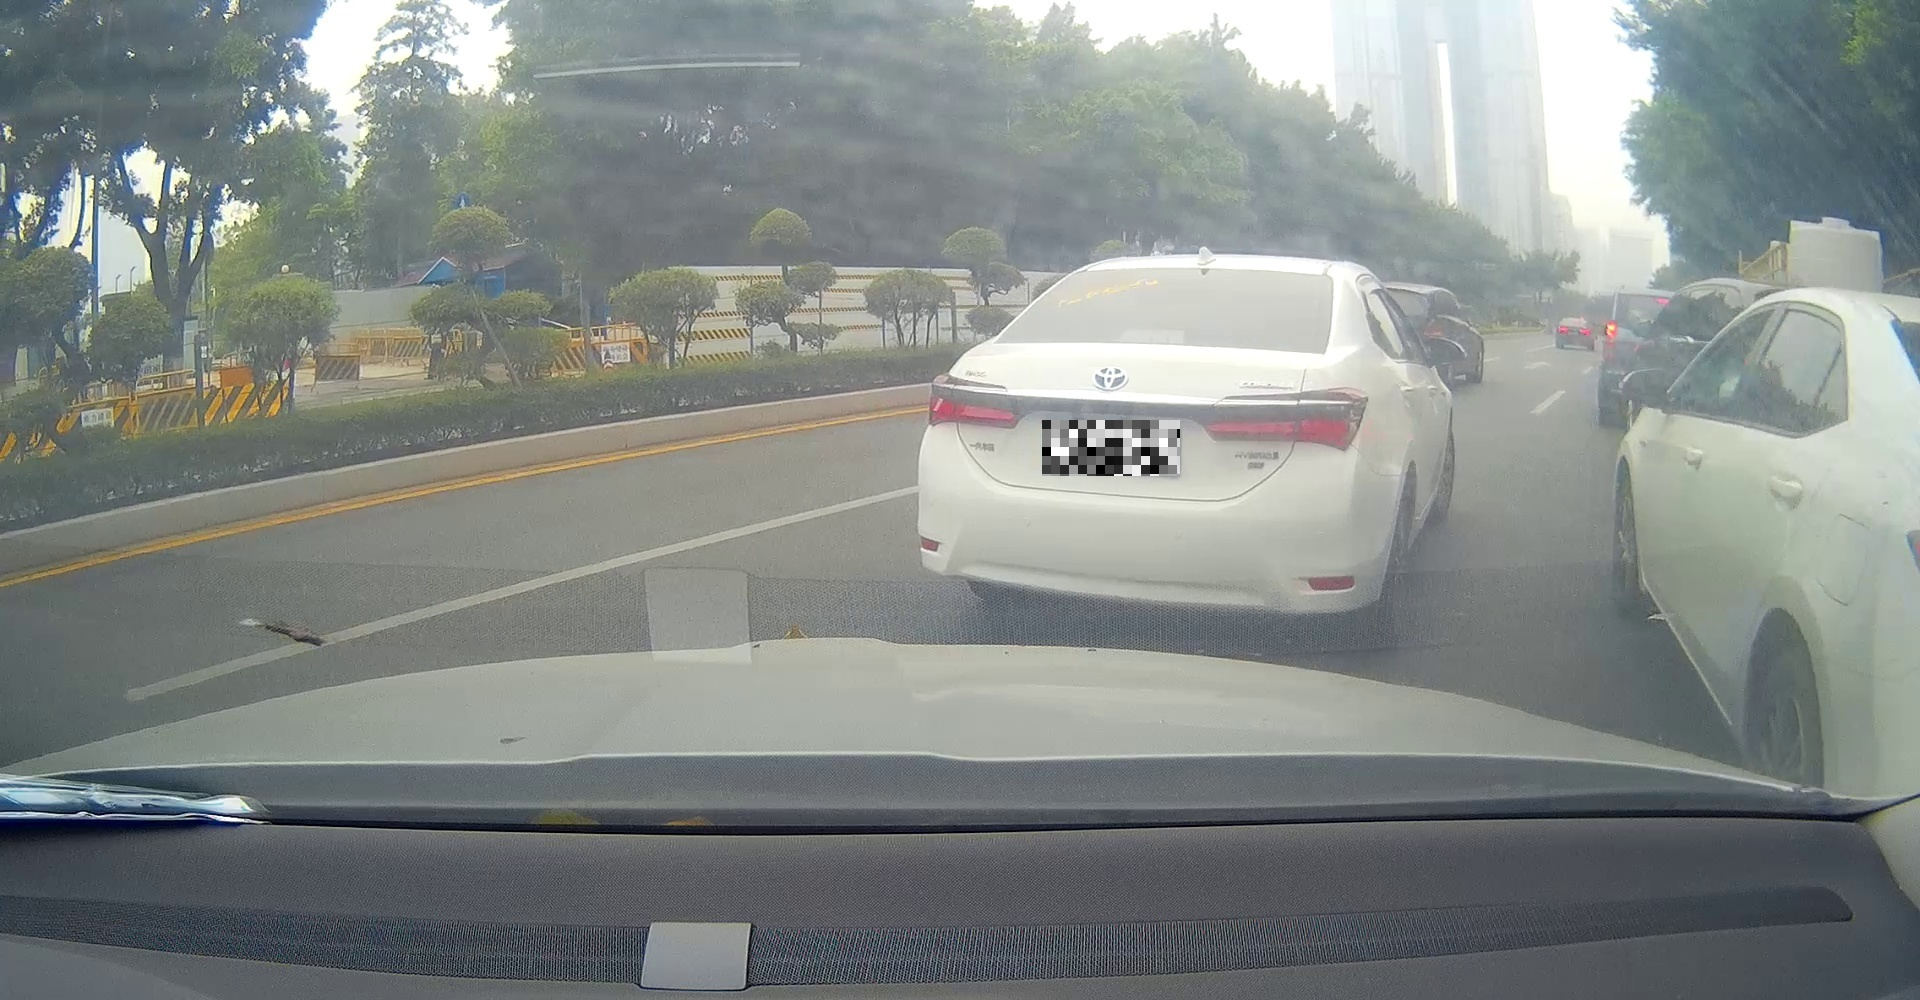L_light: (927, 372, 1016, 428)
R_light: (1204, 385, 1370, 453)
T_light: (1123, 327, 1182, 345)
day-no: (916, 254, 1378, 654)
plate_1: (1043, 420, 1180, 476)
